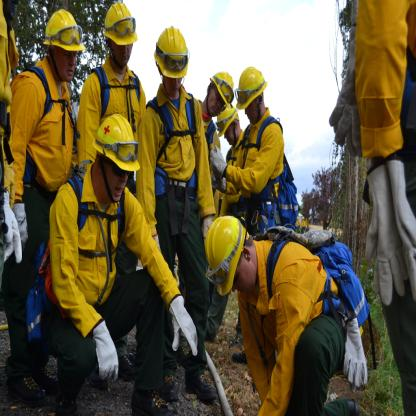Helmet: (92, 112, 141, 205), (207, 216, 251, 298), (44, 4, 84, 79), (154, 24, 189, 94), (102, 2, 136, 71), (238, 65, 266, 124), (206, 68, 233, 114), (218, 103, 240, 138)
